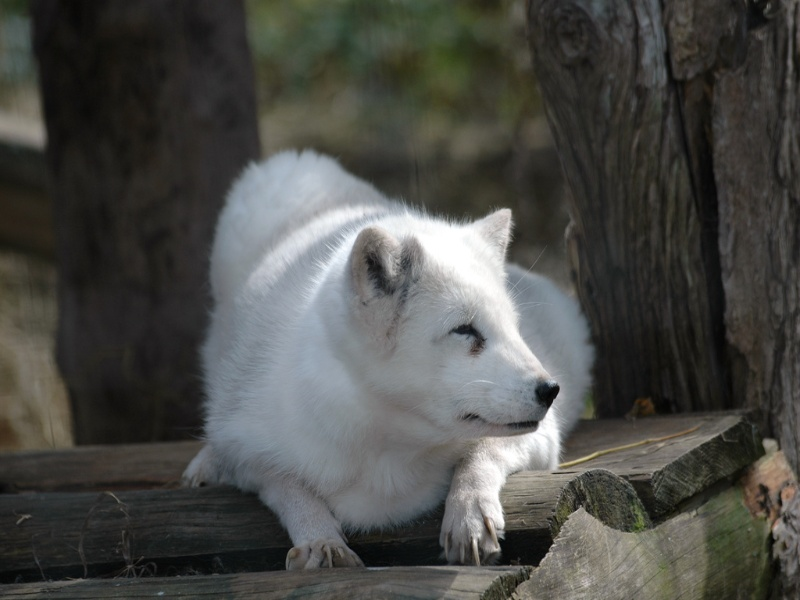fox: (182, 146, 600, 576)
